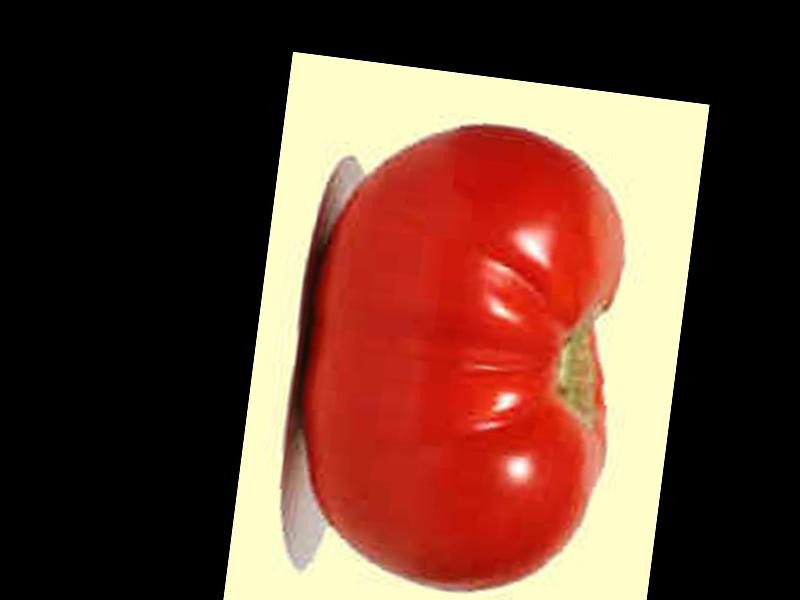Tomato: (283, 104, 645, 600)
